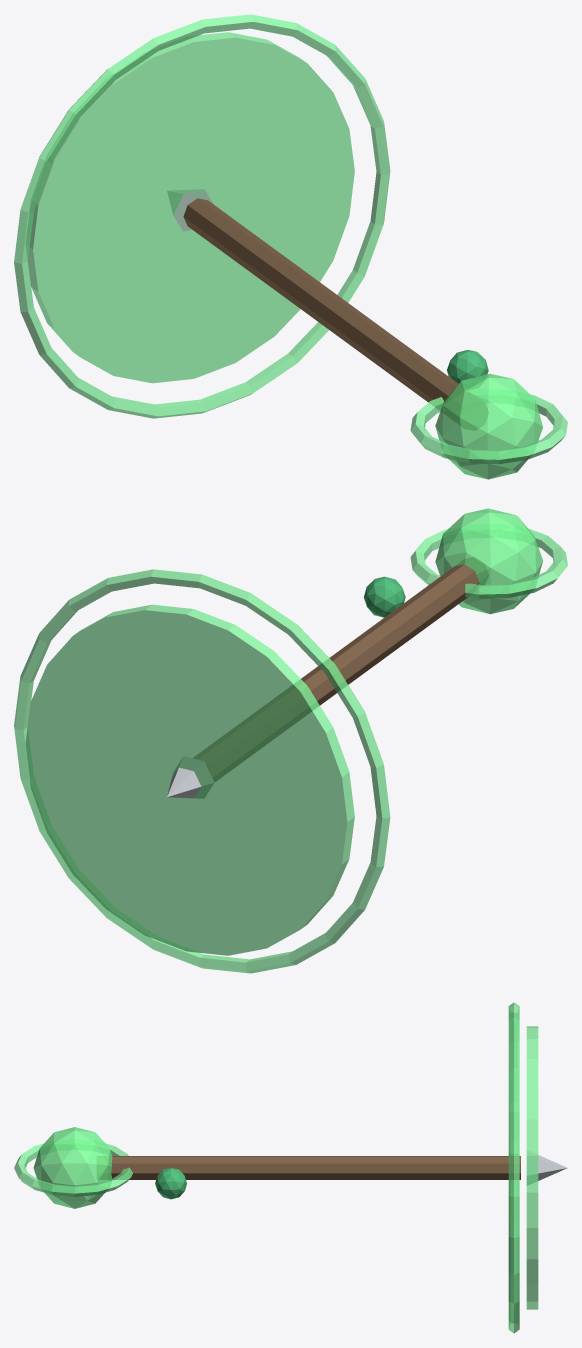
The model's file is weapon_pickup_druid_staff_uncommon.glb.
3 views of the same model, one above another, from view 1: azimuth 30°, elevation 25°; view 2: azimuth 150°, elevation 25°; view 3: azimuth 270°, elevation 25° (orthographic). The views are drawn at different scales.
Visible parts, largest first — view 1: rarity_base_disc, rarity_orbit_ring, staff, orb, orb_ring, leaf_charm, bottom_cap; view 2: rarity_base_disc, rarity_orbit_ring, staff, orb, orb_ring, bottom_cap, leaf_charm; view 3: staff, orb, rarity_orbit_ring, rarity_base_disc, orb_ring, leaf_charm, bottom_cap.
Part boxes in pixels (x1,y1,x2,y2): rarity_base_disc: (26, 32, 354, 383); rarity_orbit_ring: (14, 14, 390, 418); staff: (183, 198, 458, 410); orb: (435, 373, 542, 479); orb_ring: (410, 394, 567, 464); leaf_charm: (447, 350, 488, 383); bottom_cap: (167, 189, 213, 231); rarity_base_disc: (25, 604, 354, 955); rarity_orbit_ring: (14, 569, 390, 973); staff: (194, 564, 479, 781); orb: (435, 508, 542, 614); orb_ring: (410, 528, 567, 598); bottom_cap: (167, 757, 213, 798); leaf_charm: (364, 576, 405, 617); staff: (111, 1156, 520, 1179); orb: (33, 1127, 112, 1208); rarity_orbit_ring: (508, 1002, 519, 1333); rarity_base_disc: (526, 1026, 538, 1309); orb_ring: (14, 1143, 132, 1196); leaf_charm: (155, 1167, 186, 1199); bottom_cap: (527, 1150, 567, 1185).
Size of the model in its own units: 1.45 by 1.45 by 2.42.
